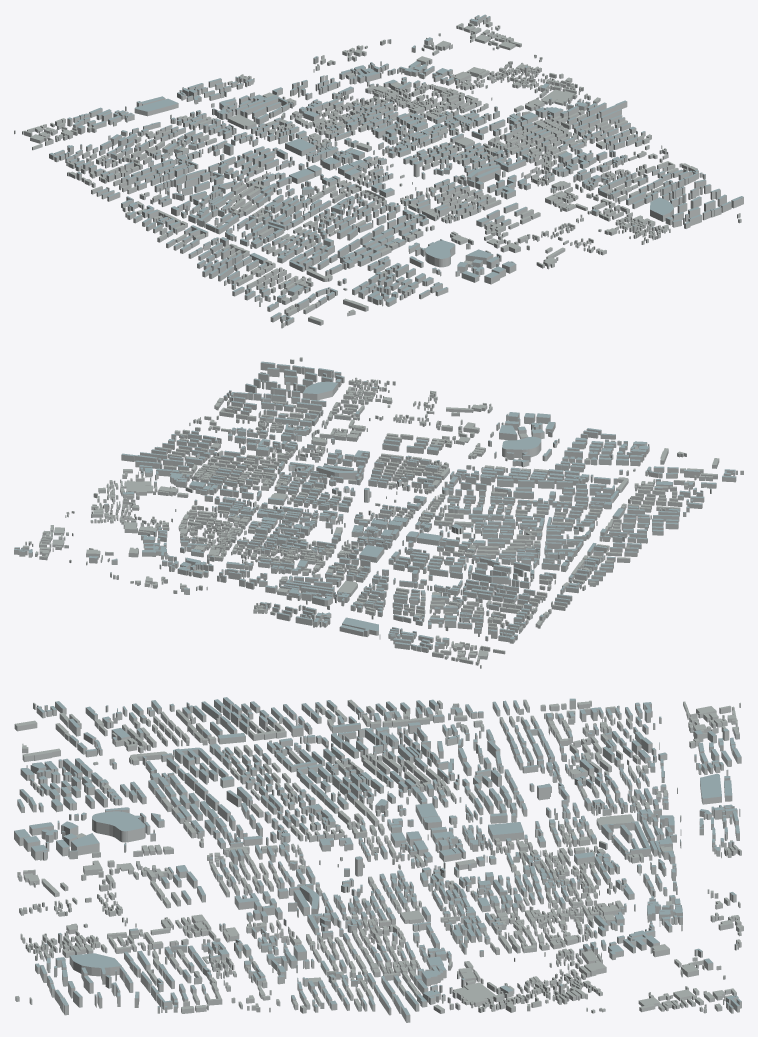
The model's file is far.glb.
3 renders of one model, top to bottom at view 1: azimuth 30°, elevation 25°; view 2: azimuth 150°, elevation 25°; view 3: azimuth 270°, elevation 25°, orthographic. The views are drawn at different scales.
Bounding box in the file's own units: 2184 × 54 × 2112.
